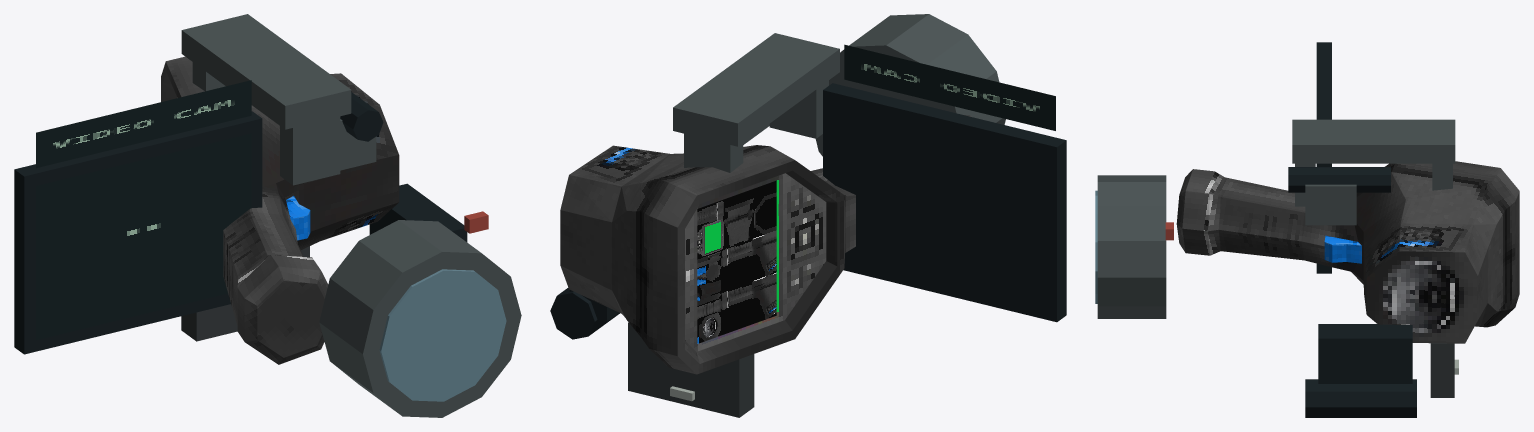
File: blender_video_camera_3.glb
3 views of the same model, side by side, from view 1: azimuth 30°, elevation 25°; view 2: azimuth 150°, elevation 25°; view 3: azimuth 270°, elevation 25° (orthographic). The views are drawn at different scales.
Visible parts, largest first — view 1: blender_video_camera_3; view 2: blender_video_camera_3; view 3: blender_video_camera_3.
Part boxes in pixels (x1,y1,x2,y2): blender_video_camera_3: [14, 14, 521, 417]; blender_video_camera_3: [550, 14, 1066, 417]; blender_video_camera_3: [1095, 42, 1519, 417].
Bounding box in the file's own units: 0.2441 × 0.1615 × 0.2475.
Materials: 1 (1 with a texture image).
